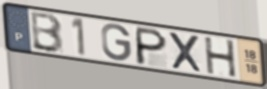1: (71, 17, 88, 59)
B: (30, 10, 66, 55)
G: (100, 22, 133, 62)
H: (202, 36, 239, 79)
P: (134, 25, 169, 67)
X: (167, 30, 205, 75)
